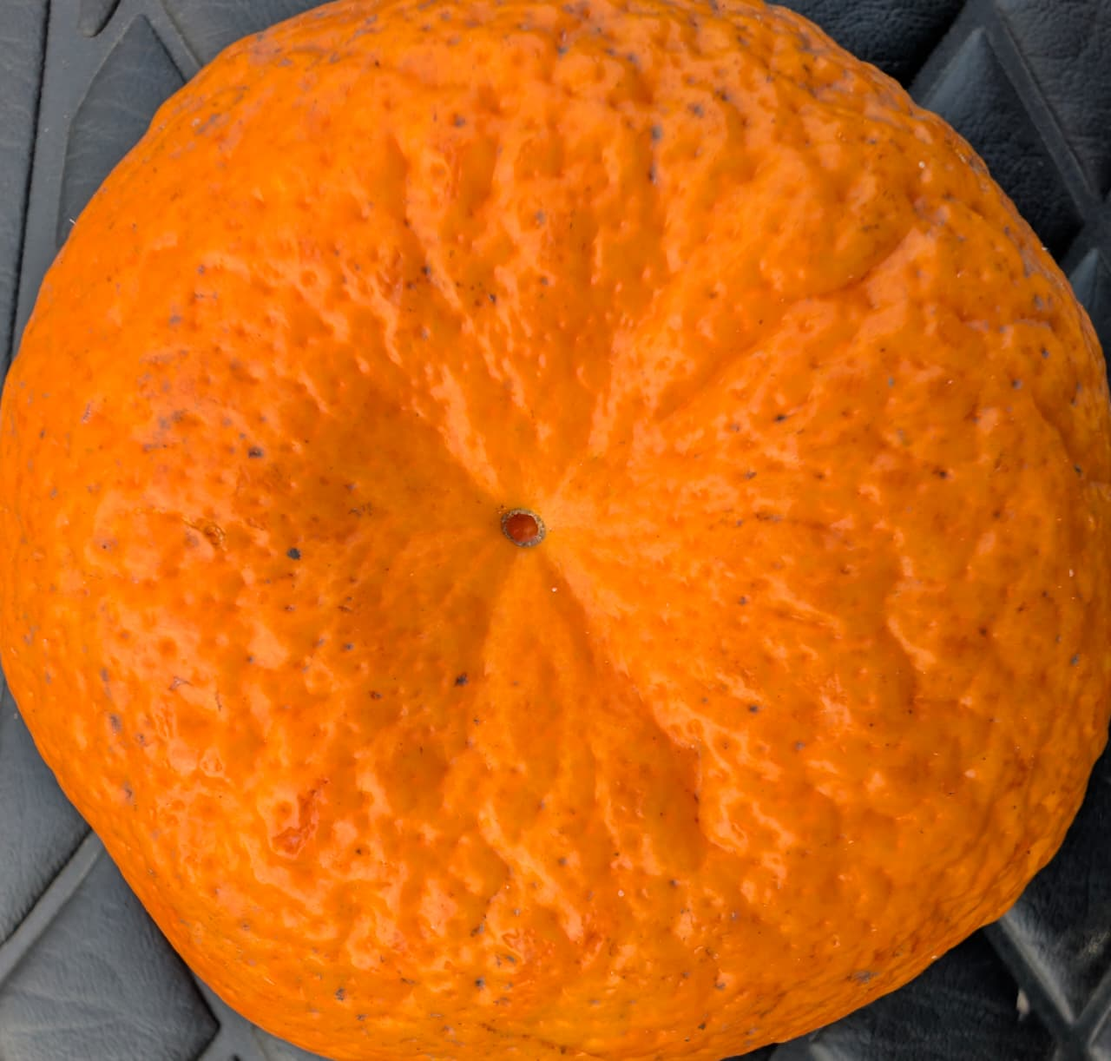orange: (98, 135, 892, 1024)
